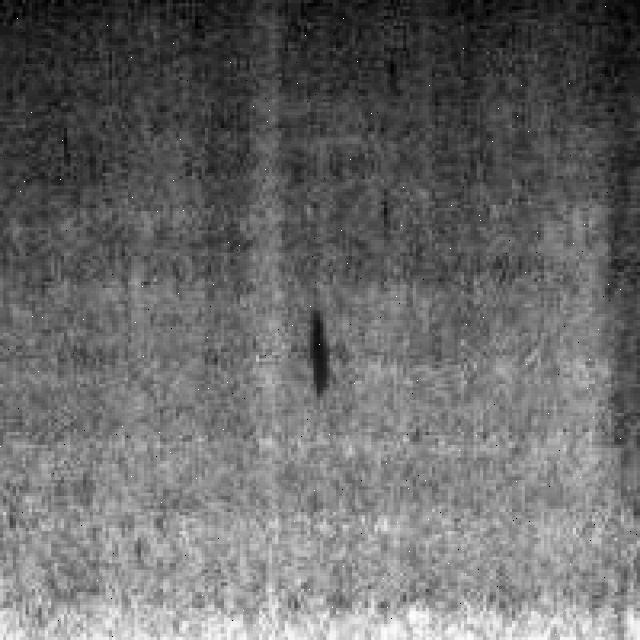Patches: (294, 298, 342, 412)
